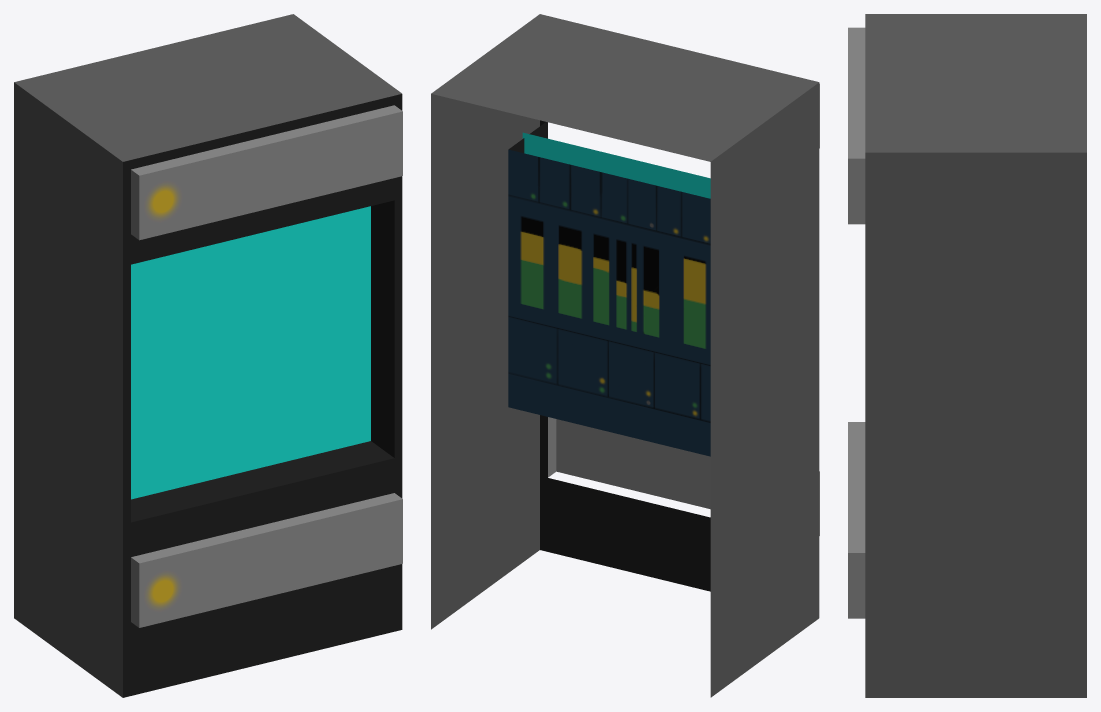
The model's file is DataBank_3.fbx.
3 renders of one model, left to right at view 1: azimuth 30°, elevation 25°; view 2: azimuth 150°, elevation 25°; view 3: azimuth 270°, elevation 25°, orthographic.
Visible parts, largest first — view 1: DataBank_3, Glass_2; view 2: DataBank_3, Glass_2; view 3: DataBank_3.
Part boxes in pixels (bbox=[...]): DataBank_3: bbox=[14, 14, 402, 697]; Glass_2: bbox=[131, 206, 370, 499]; DataBank_3: bbox=[431, 14, 819, 697]; Glass_2: bbox=[522, 132, 710, 198]; DataBank_3: bbox=[848, 14, 1086, 697].
Size of the model in its own units: 1 by 1.83 by 0.7274.
Materials: 2 (2 with a texture image).
